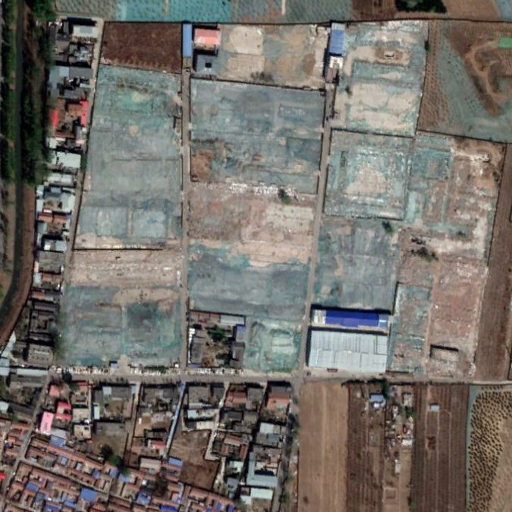cw: (56, 20, 512, 392)
